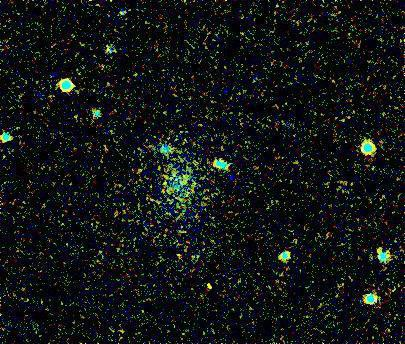star: (194, 272, 224, 302)
